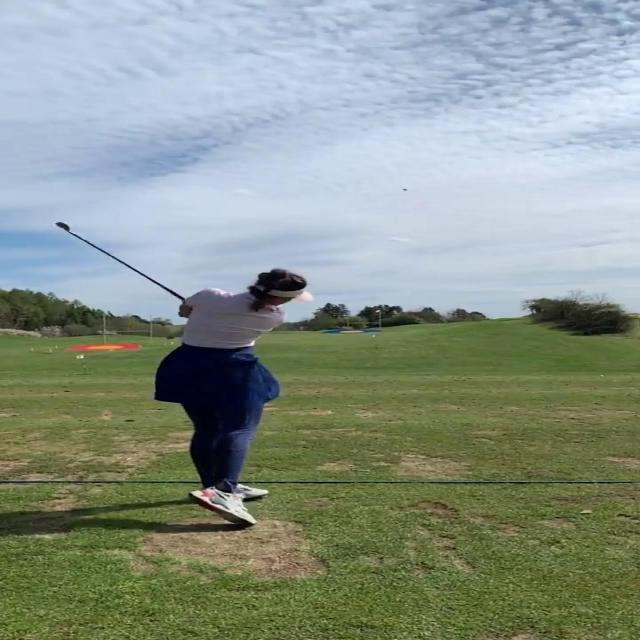golf ball: (404, 189, 407, 191)
golf club-handle: (55, 222, 184, 301)
golf club-head: (53, 222, 70, 230)
